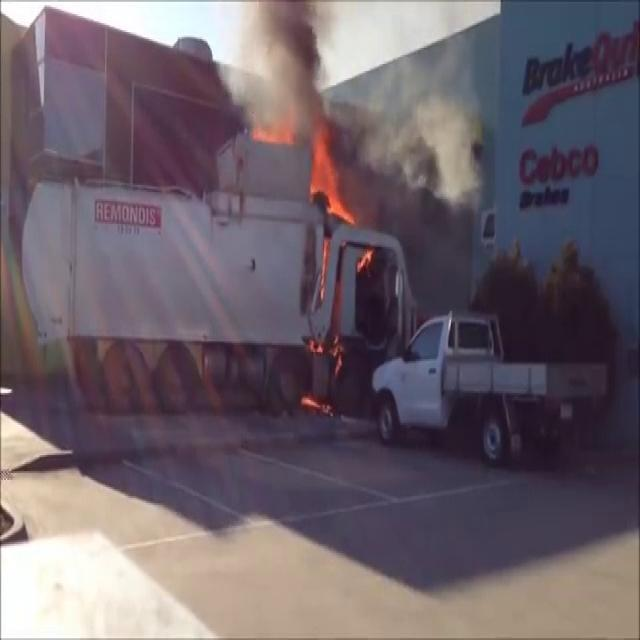Fire: (306, 128, 352, 222)
Smoke: (356, 25, 488, 226), (234, 0, 344, 142)
